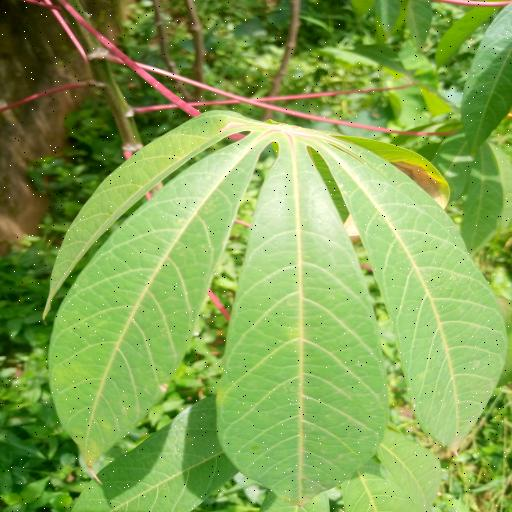Cassava_Healthy: (40, 102, 512, 502)
